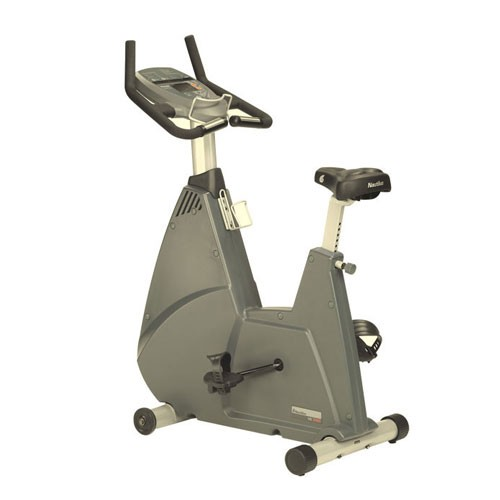gym_bike: (105, 31, 421, 480)
